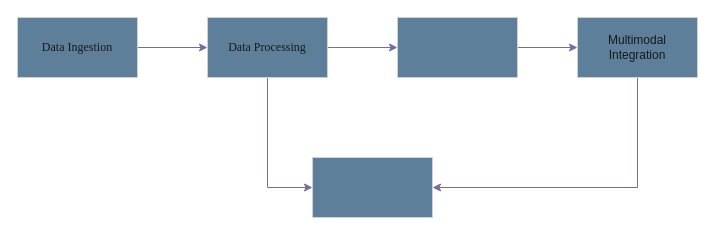
The diagram is 715 pixels wide and 235 high, and some of its shapes have lost their labels. The shapes that lost their labels are listed below. From the top down, each one's centre as x and y in pixels, then its label:
pixel 457 47: NLP Analysis
pixel 372 187: Real-Time Recommendations
